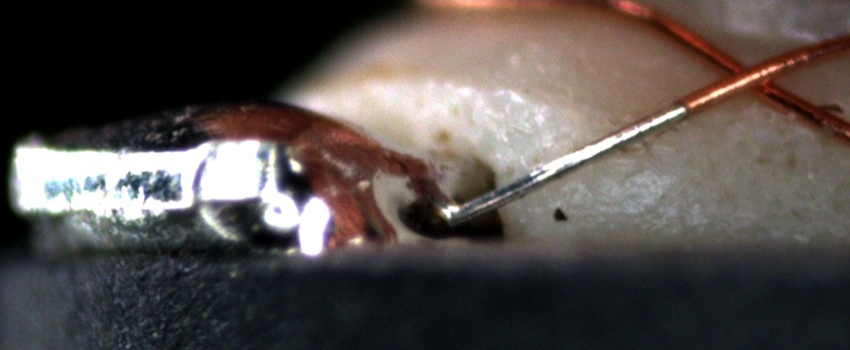CL: (705, 46, 803, 105)
TS: (448, 101, 687, 223)
